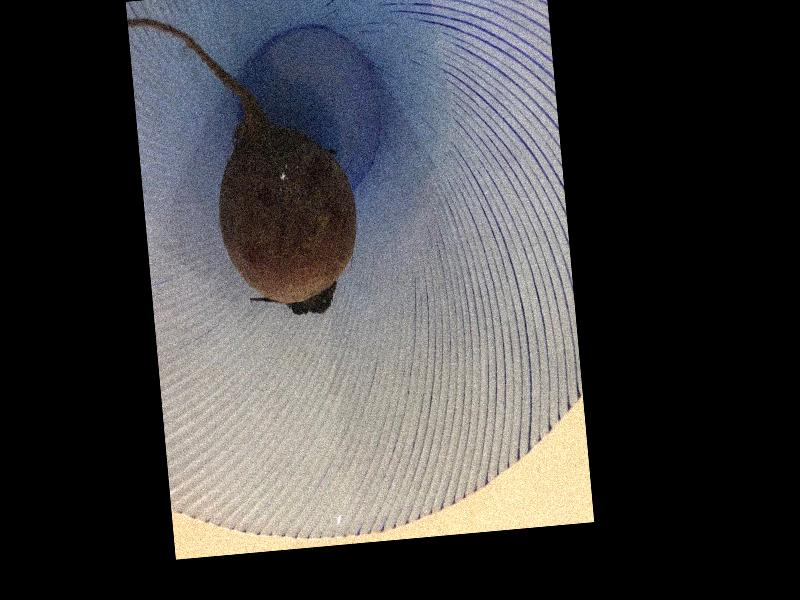Beet: (127, 1, 364, 329)
